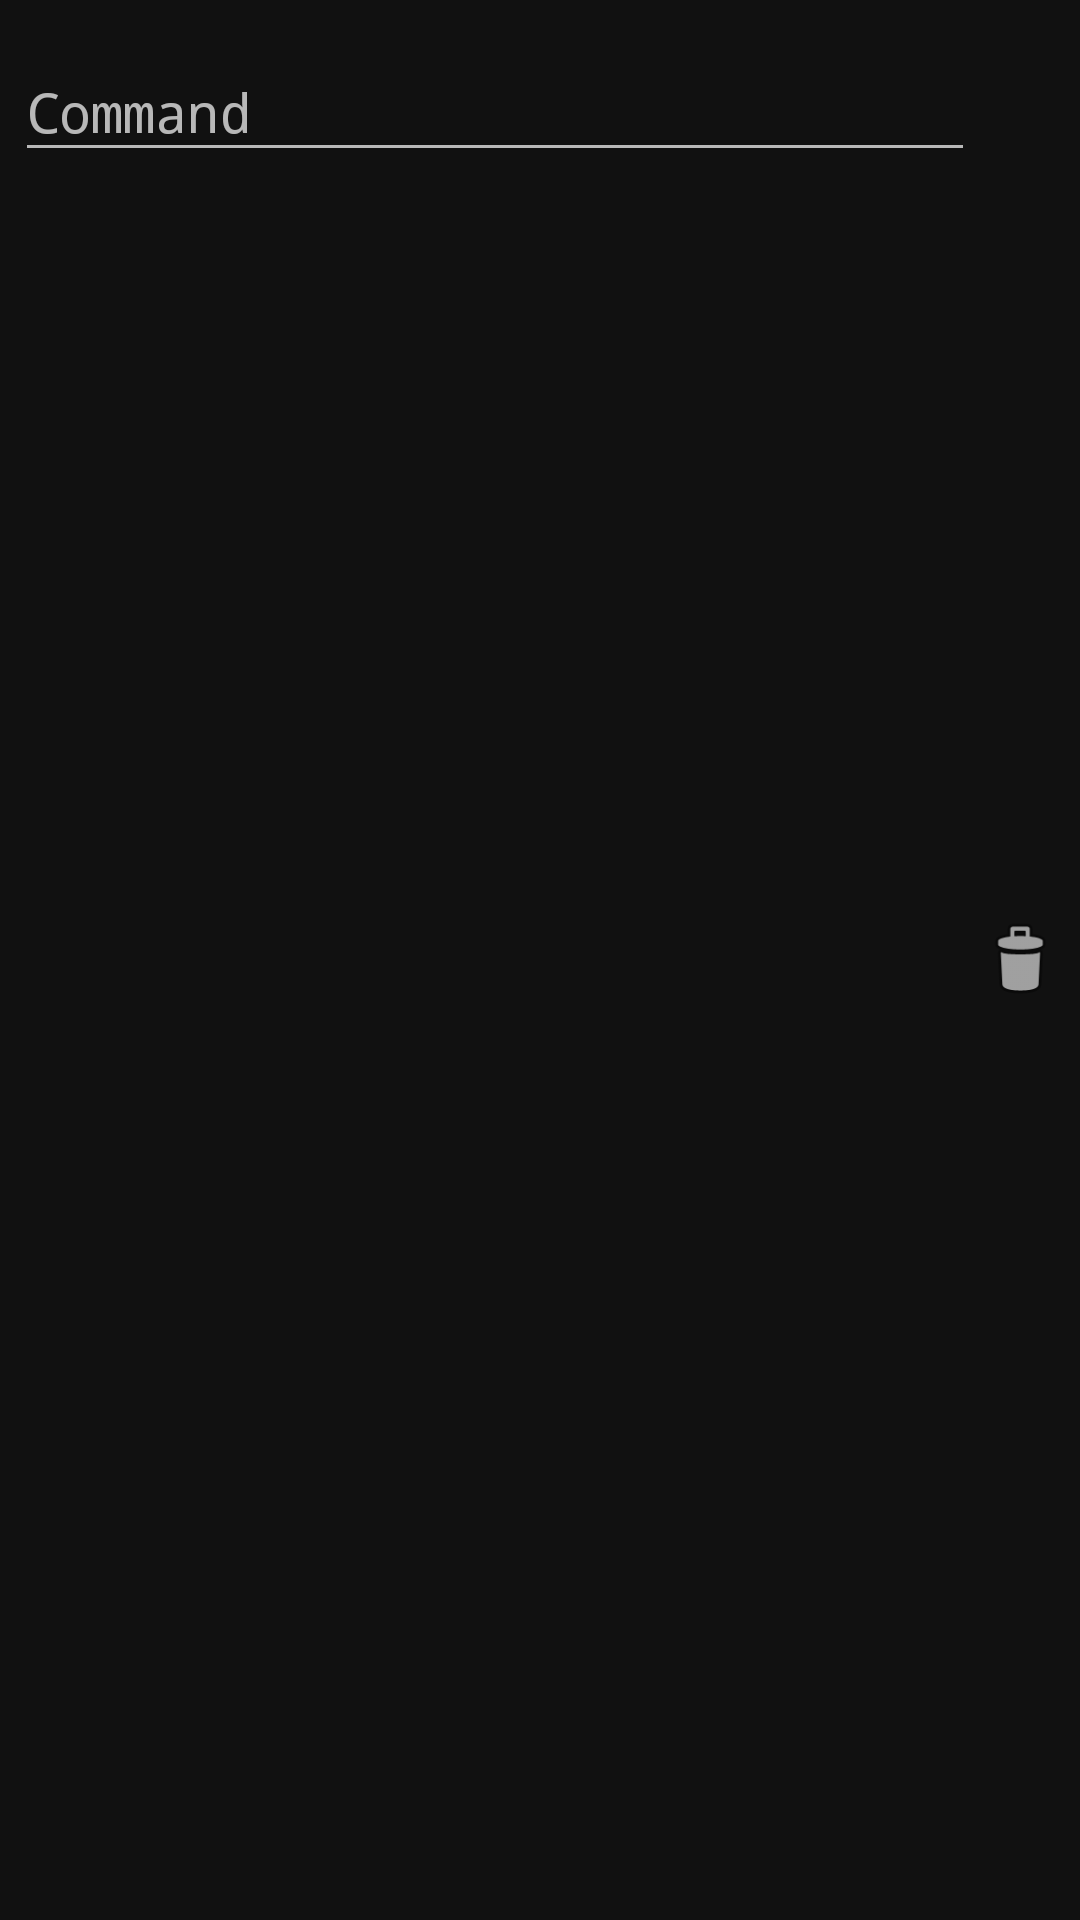

Locate icon controls on the screen. Image size 1080px x 1920px, boxes as (x1, y1, x2, y2).
delete: (998, 926, 1043, 991)
